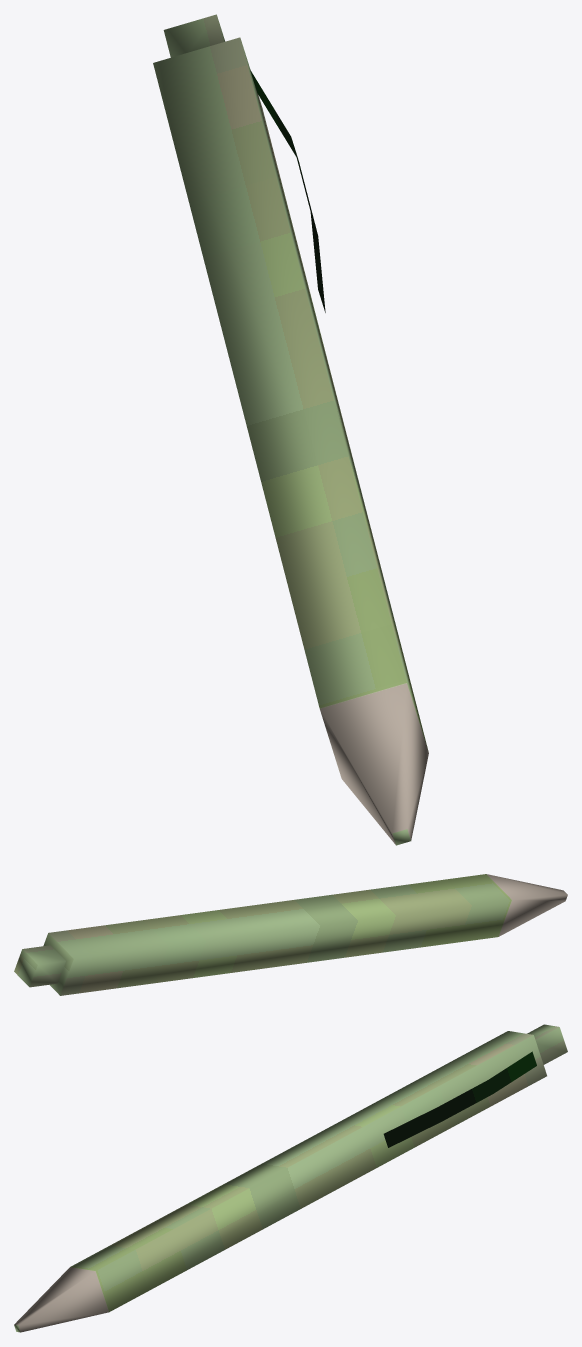
The model's file is pen.fbx.
3 views of the same model, one above another, from view 1: azimuth 30°, elevation 25°; view 2: azimuth 150°, elevation 25°; view 3: azimuth 330°, elevation 25° (orthographic). The views are drawn at different scales.
Visible parts, largest first — view 1: pen; view 2: pen; view 3: pen.
Boxes of the visible parts, x1,y1,x2,y2 form: pen: (153,14,428,845); pen: (14,874,567,995); pen: (14,1024,567,1332).
Bounding box in the file's own units: 9.34 × 5.24 × 22.22.
Materials: 1 (1 with a texture image).
